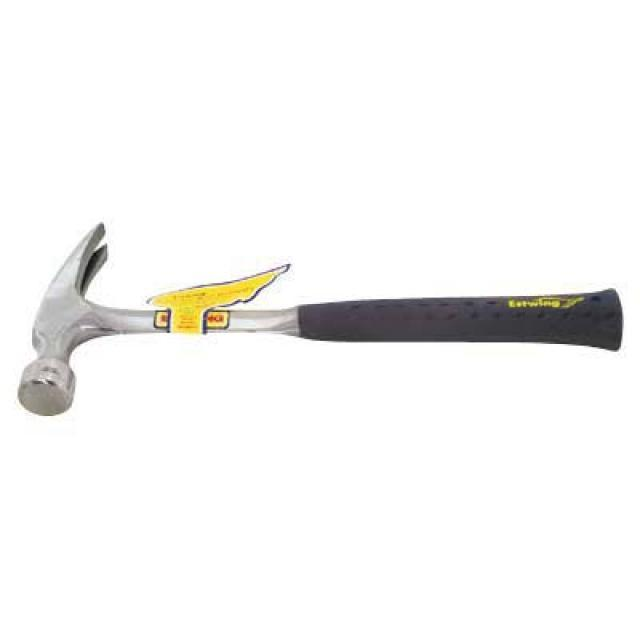hammer: (12, 216, 628, 422)
